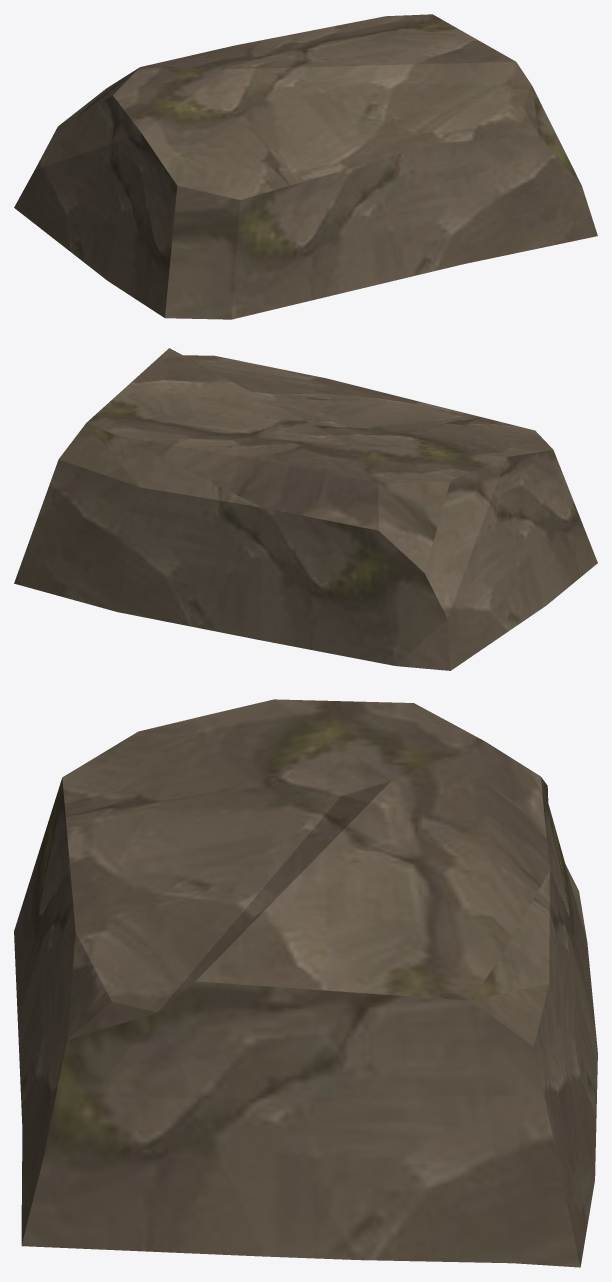
File: gpebble_square_2.glb
3 views of the same model, one above another, from view 1: azimuth 30°, elevation 25°; view 2: azimuth 150°, elevation 25°; view 3: azimuth 270°, elevation 25° (orthographic). The views are drawn at different scales.
Visible parts, largest first — view 1: model; view 2: model; view 3: model.
Part boxes in pixels (x1,y1,x2,y2): model: (14,14,597,319); model: (14,348,597,670); model: (14,699,597,1267).
Size of the model in its own units: 0.3942 by 0.1423 by 0.2808.
1 material, 1 textured.
